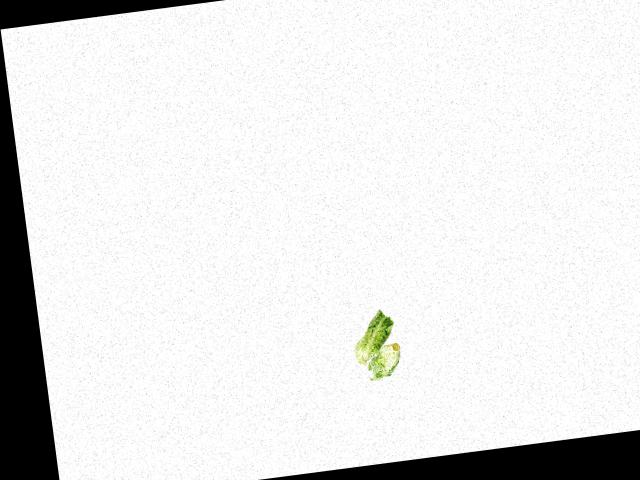lettuce: (363, 339, 409, 383)
